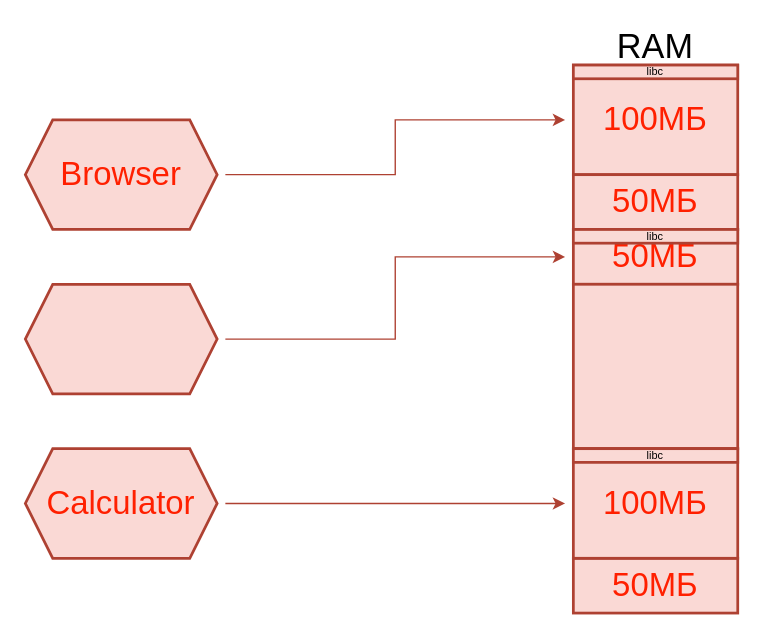
Image size: 762x638. Some labels were removed from this diagram. The shapes that lost their labels are listed below. From the top down, each one's box as (x1, y1, x2, y2) in pixels, then its label:
(23, 282, 218, 395): Bank
(571, 282, 738, 449): 150МБ
